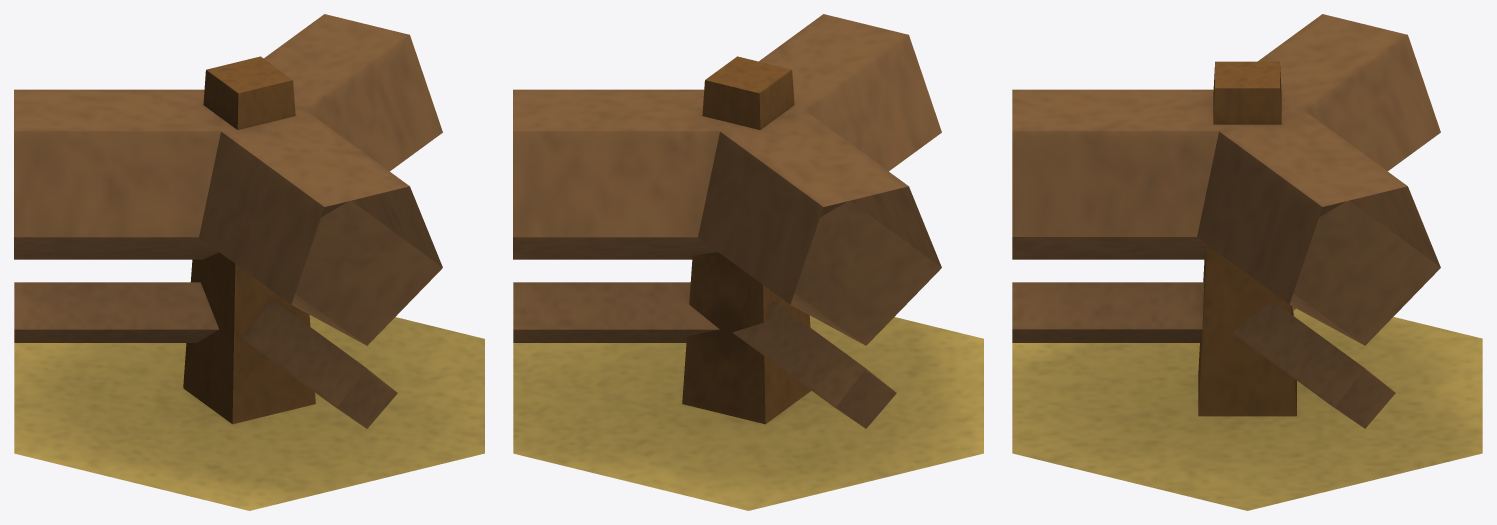
The model's file is BarriereDesert_Y.FBX.
3 renders of one model, left to right at view 1: azimuth 30°, elevation 25°; view 2: azimuth 150°, elevation 25°; view 3: azimuth 270°, elevation 25°, orthographic.
Visible parts, largest first — view 1: BarriereDesert_Y; view 2: BarriereDesert_Y; view 3: BarriereDesert_Y.
Boxes of the visible parts, bbox=[...] form: BarriereDesert_Y: bbox=[14, 14, 484, 510]; BarriereDesert_Y: bbox=[513, 14, 983, 510]; BarriereDesert_Y: bbox=[1012, 14, 1482, 510].
Bounding box in the file's own units: 1 × 0.6525 × 0.8661.
